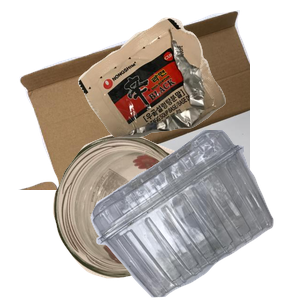cardboard: (16, 10, 256, 190)
glass: (50, 131, 252, 300)
plastic: (88, 130, 300, 300)
trash: (76, 15, 300, 145)
